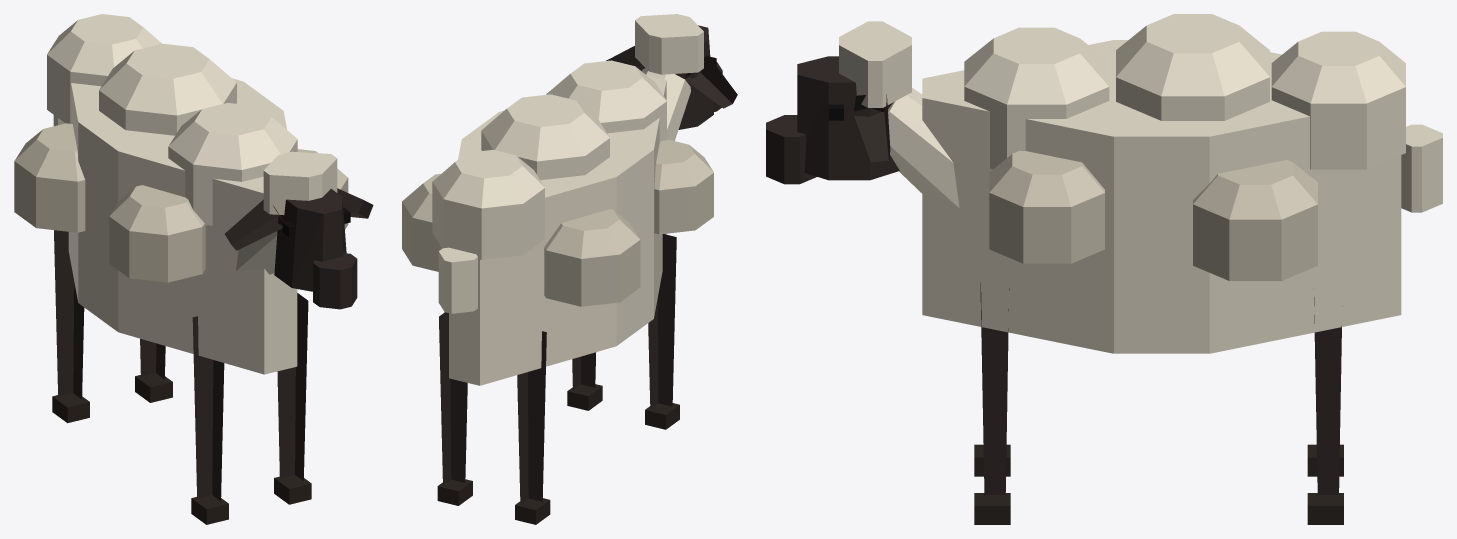
Rendered from sheep.obj.
3 renders of one model, left to right at view 1: azimuth 30°, elevation 25°; view 2: azimuth 150°, elevation 25°; view 3: azimuth 270°, elevation 25°, orthographic. The views are drawn at different scales.
Parts seen in each view (by area): view 1: Body.Tuft, Body, Head.Skull, Leg.FR, Leg.BR, Leg.FL, Head.Wool, Head.Muzzle, Head.Ear, Head.Neck, Leg.FL.Hoof, Leg.BR.Hoof (+3 smaller); view 2: Body.Tuft, Body, Head.Wool, Leg.BR, Leg.FR, Leg.BL, Body.Tail, Head.Ear, Head.Neck, Head.Skull, Leg.BR.Hoof, Leg.FL.Hoof (+3 smaller); view 3: Body, Body.Tuft, Head.Skull, Head.Wool, Head.Neck, Leg.FL, Leg.BL, Body.Tail, Head.Muzzle, Head.Ear, Leg.FL.Hoof, Leg.BL.Hoof.
Part boxes in pixels (<box>): Body.Tuft: <box>14,14,348,282</box>; Body: <box>64,78,297,374</box>; Head.Skull: <box>274,189,346,291</box>; Leg.FR: <box>192,316,224,500</box>; Leg.BR: <box>54,230,84,399</box>; Leg.FL: <box>277,293,308,480</box>; Head.Wool: <box>263,151,337,214</box>; Head.Muzzle: <box>313,253,357,309</box>; Head.Ear: <box>225,188,373,250</box>; Head.Neck: <box>236,231,277,274</box>; Leg.FL.Hoof: <box>274,475,311,504</box>; Leg.BR.Hoof: <box>52,393,89,423</box>; Body.Tuft: <box>402,60,713,306</box>; Body: <box>449,75,666,385</box>; Head.Wool: <box>635,14,703,74</box>; Leg.BR: <box>517,331,546,504</box>; Leg.FR: <box>648,234,676,408</box>; Leg.BL: <box>439,312,467,485</box>; Body.Tail: <box>438,247,477,313</box>; Head.Ear: <box>606,46,737,108</box>; Head.Neck: <box>642,68,690,140</box>; Head.Skull: <box>675,25,713,129</box>; Leg.BR.Hoof: <box>515,498,550,524</box>; Leg.FL.Hoof: <box>567,384,602,410</box>; Body: <box>922,40,1401,353</box>; Body.Tuft: <box>964,14,1405,280</box>; Head.Skull: <box>797,56,899,180</box>; Head.Wool: <box>839,21,911,107</box>; Head.Neck: <box>888,88,959,208</box>; Leg.FL: <box>980,282,1009,495</box>; Leg.BL: <box>1314,297,1342,499</box>; Body.Tail: <box>1401,124,1442,212</box>; Head.Muzzle: <box>766,115,816,184</box>; Head.Ear: <box>854,94,890,162</box>; Leg.FL.Hoof: <box>974,493,1010,524</box>; Leg.BL.Hoof: <box>1307,493,1343,524</box>.
Bounding box in the file's own units: 0.62 × 0.976 × 1.3.
